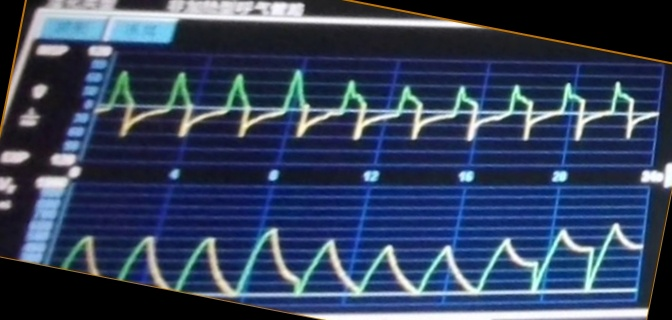Flow: (111, 57, 637, 163)
Leakage Volume: (61, 221, 642, 306)
